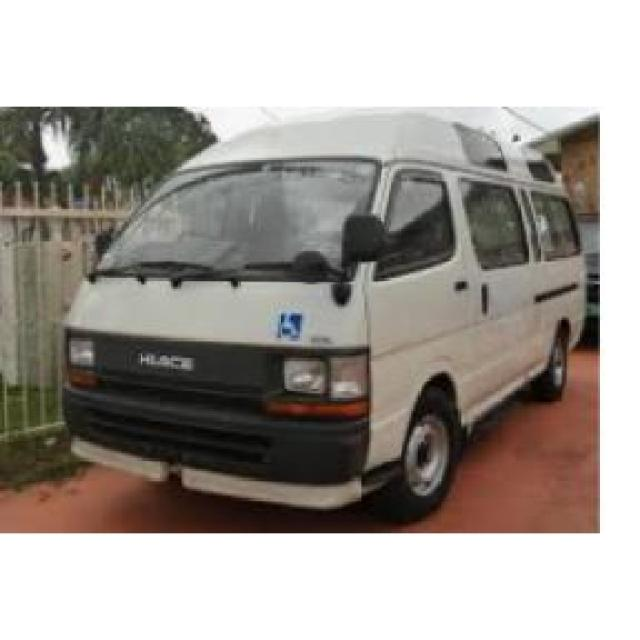Van: (53, 109, 588, 518)
